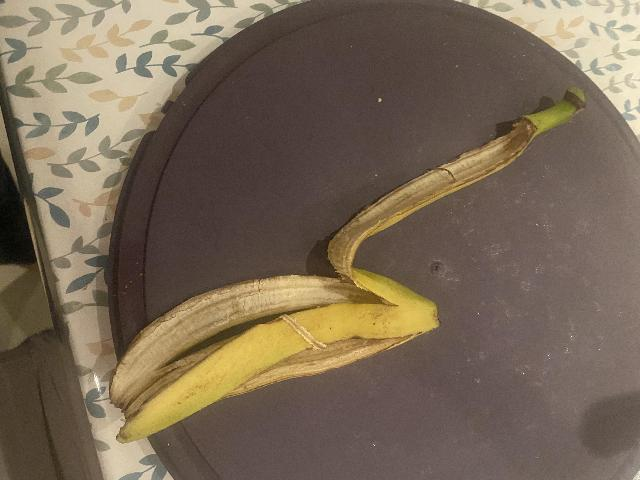Organik: (105, 90, 589, 449)
